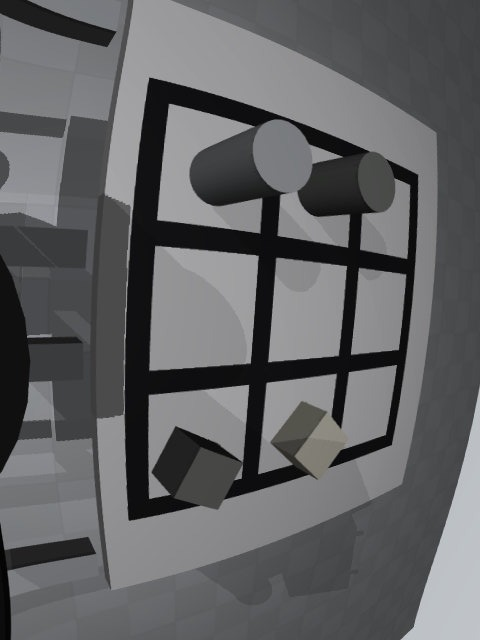can: (189, 119, 313, 207)
cube: (152, 426, 243, 509)
cylinder: (298, 151, 396, 217)
foam: (270, 401, 348, 480)
